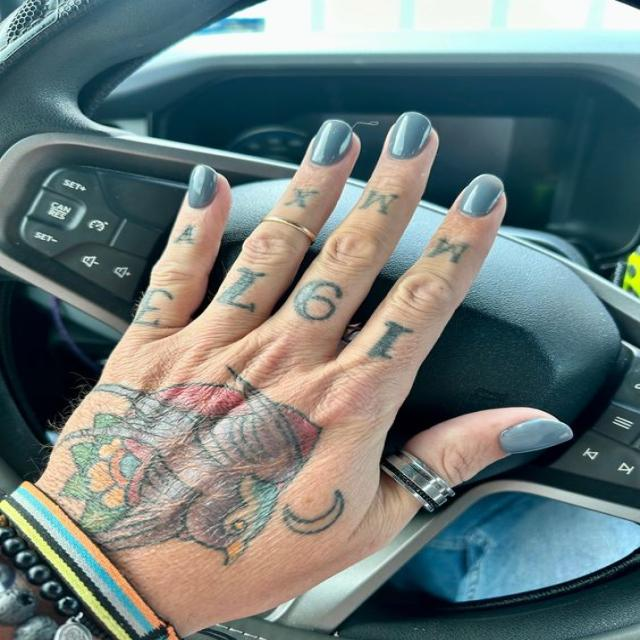Fingernail: (501, 419, 571, 453), (390, 113, 430, 158), (312, 120, 351, 166), (460, 175, 502, 216), (188, 166, 216, 208)
